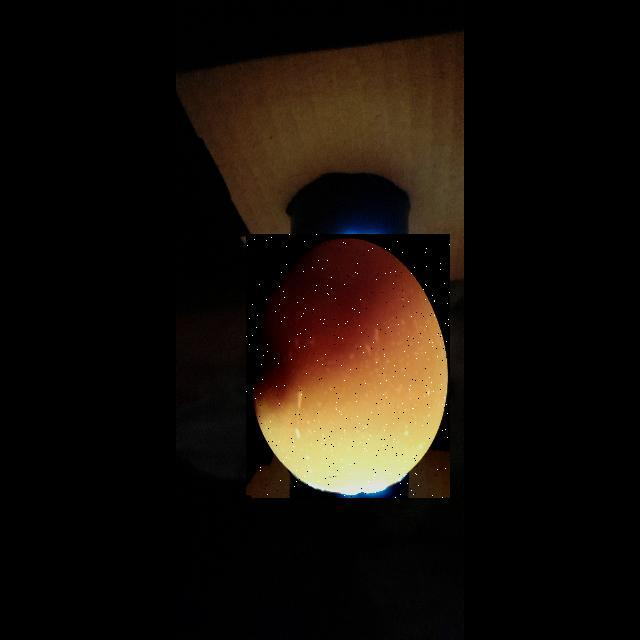Infertile: (246, 234, 450, 498)
